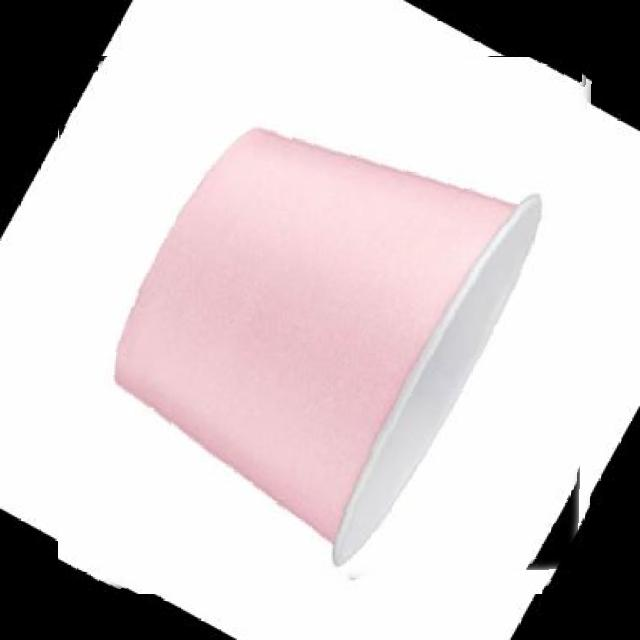non-biodegradable: (58, 57, 593, 592)
